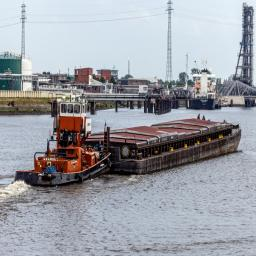tugboat: (12, 91, 115, 193)
